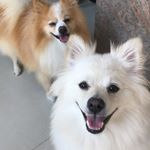puppy: (50, 36, 143, 150), (24, 1, 89, 58)
